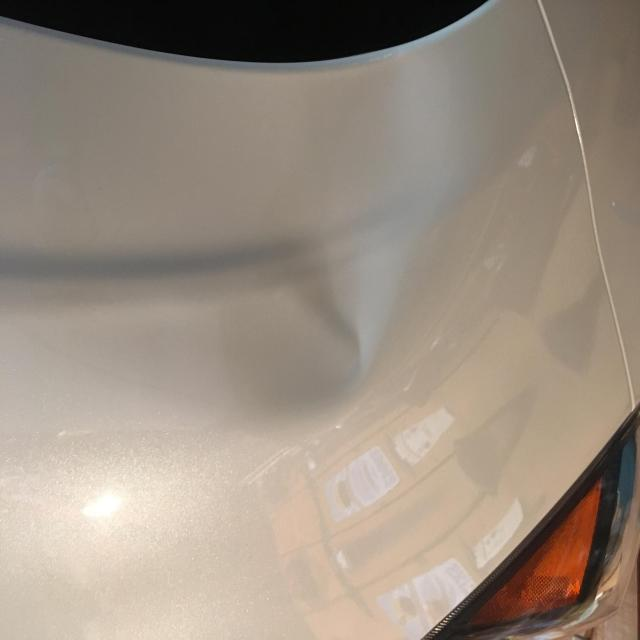dent: (206, 43, 469, 459)
